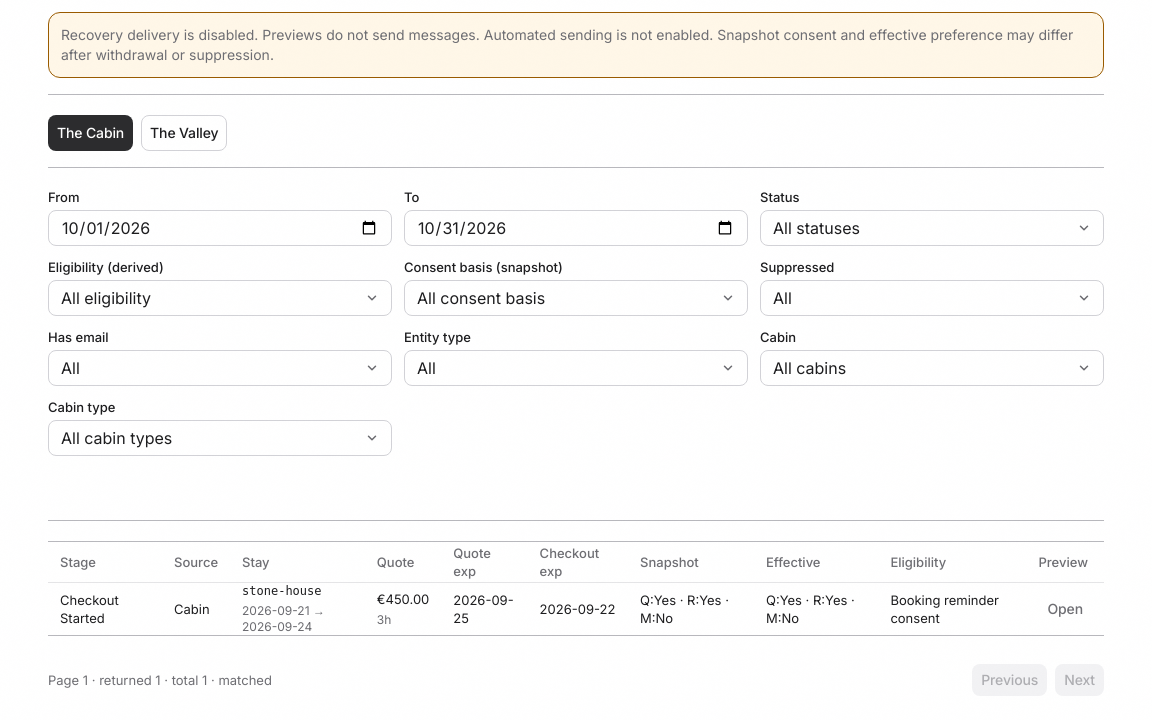
it: OpsConversionRecovery migration › shows warning banners and preserves delivery-disabled copy
(page scrolled)
Expected: the element with test id "recovery-table" is shown, [48, 520, 1104, 719]
Expected: the text "Recovery delivery is disabled. Previews do not send messages. Automated sending is not enabled" is shown, [61, 26, 1073, 63]
Click the button "Open".
click(1065, 608)  # box [1038, 592, 1092, 624]
(page scrolled)
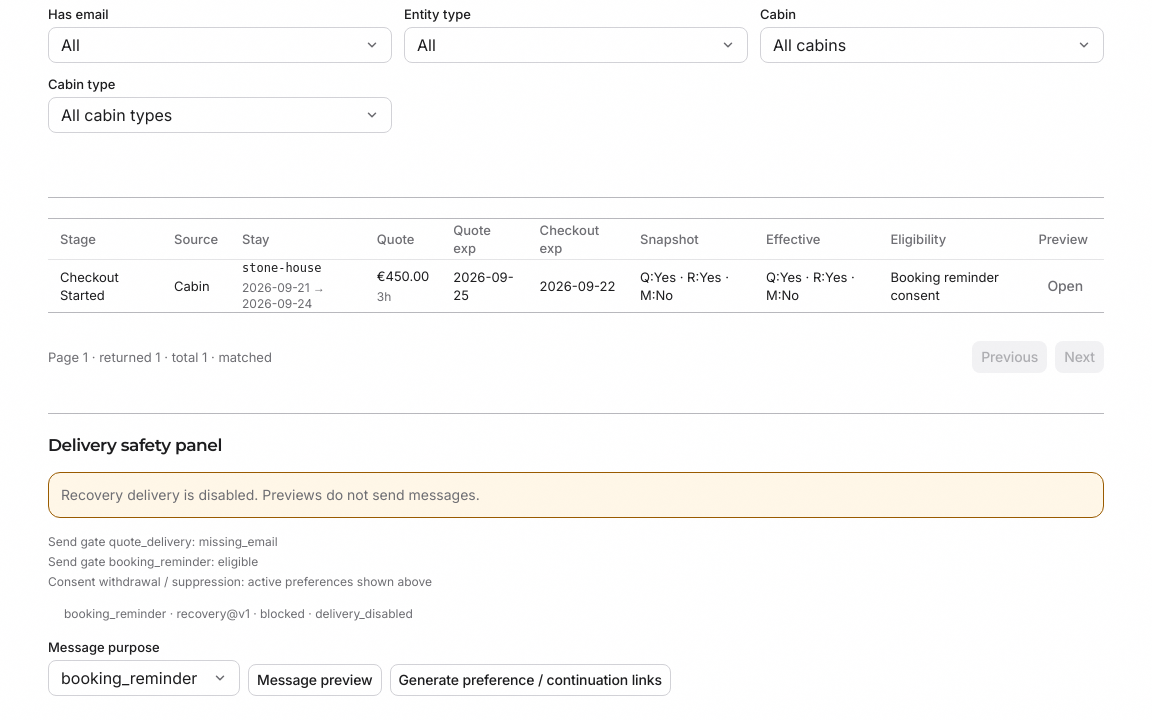
Expected: the element with test id "recovery-detail" is shown, [48, 412, 1104, 719]
Expected: the text "Recovery delivery is disabled. Previews do not send messages." is shown, [61, 486, 480, 502]
